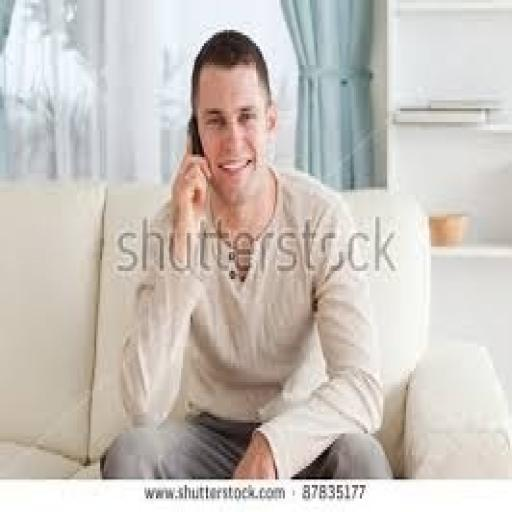calling: (98, 27, 393, 480)
